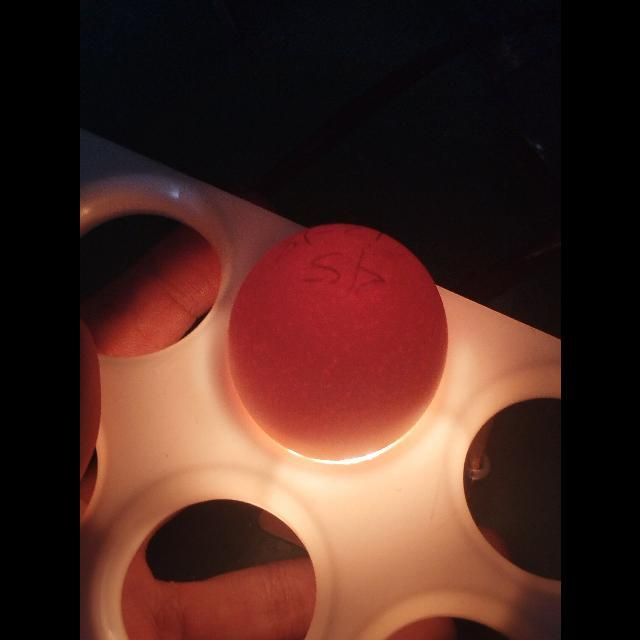Fertile: (230, 223, 440, 457)
